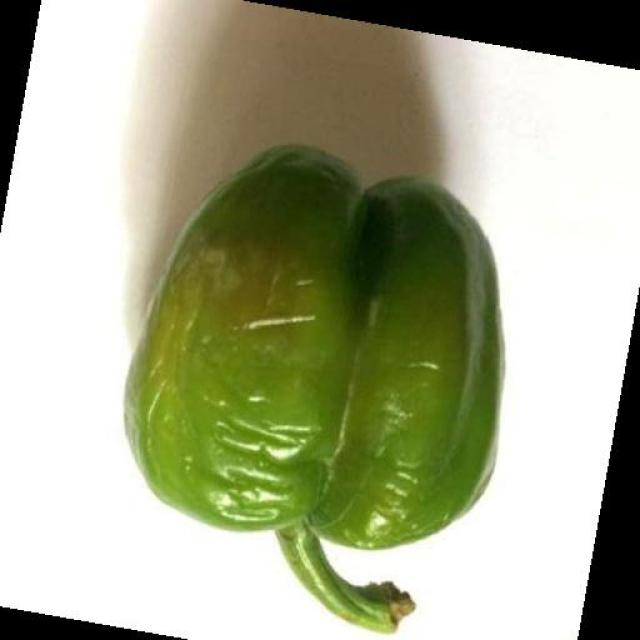Stale_Capsicum: (99, 131, 548, 640)
